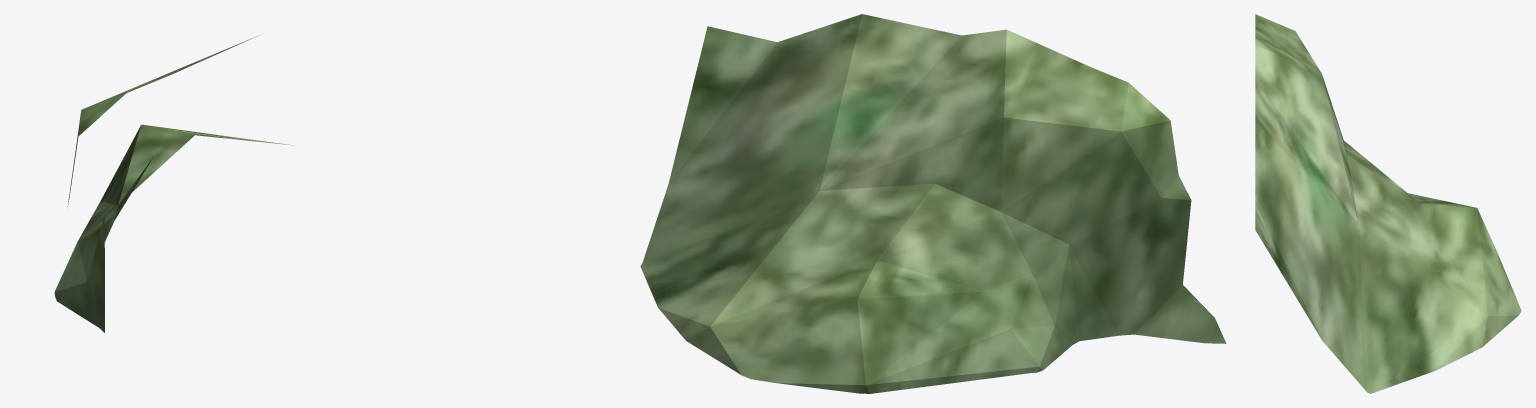
3 views of the same model, side by side, from view 1: azimuth 30°, elevation 25°; view 2: azimuth 150°, elevation 25°; view 3: azimuth 270°, elevation 25° (orthographic). The views are drawn at different scales.
Size of the model in its own units: 1.24 by 0.5963 by 0.6435.
1 material, 1 textured.
